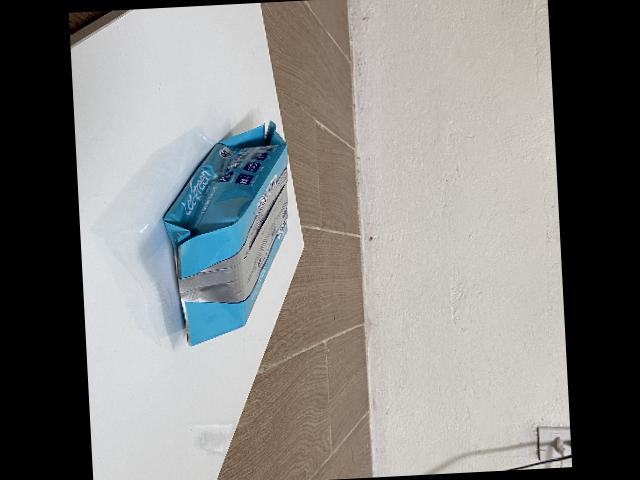Let-green_alcohol_wipes: (161, 120, 287, 347)
